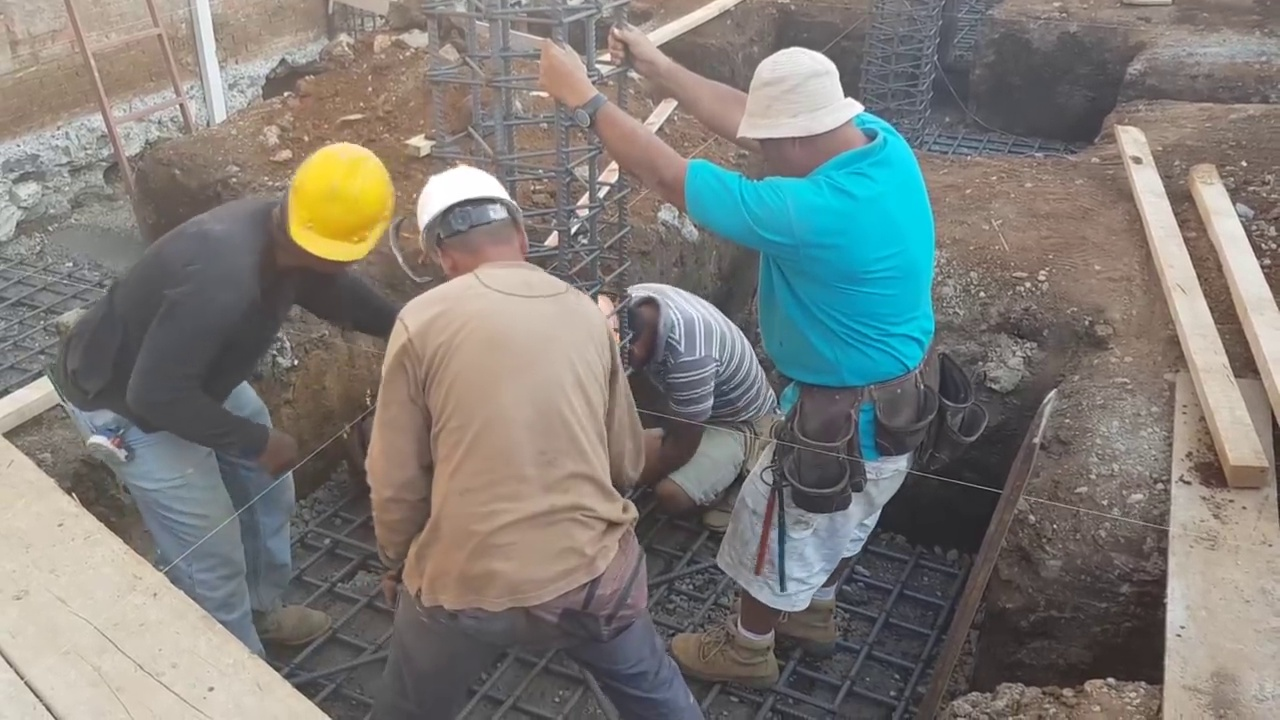helmet: (289, 144, 398, 262), (414, 163, 521, 256), (497, 174, 594, 262)
helmet-off: (732, 46, 872, 179)
helmet-on: (404, 154, 535, 293), (267, 137, 397, 269)
person: (538, 26, 940, 685), (360, 156, 705, 720), (68, 128, 399, 658), (593, 284, 776, 544)
